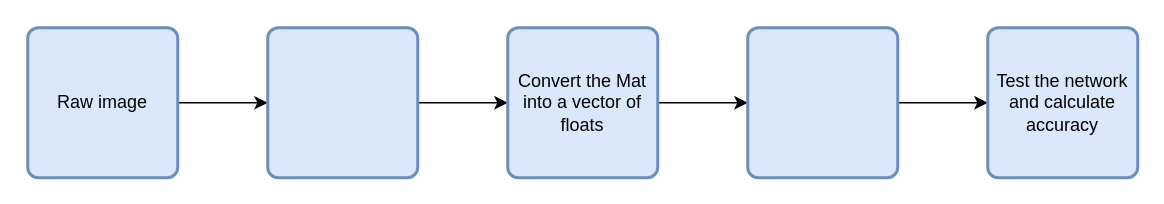
This 1164x204 diagram has some shape labels left out. The shapes that lost their labels are listed below. From the top down, each one's box as (x1, y1, x2, y2) in pixels, then its label:
(266, 26, 418, 178): Read into an OpenCV Mat file and resize it into 14*14 image
(746, 26, 898, 178): Train an MLP using the vector of floats
